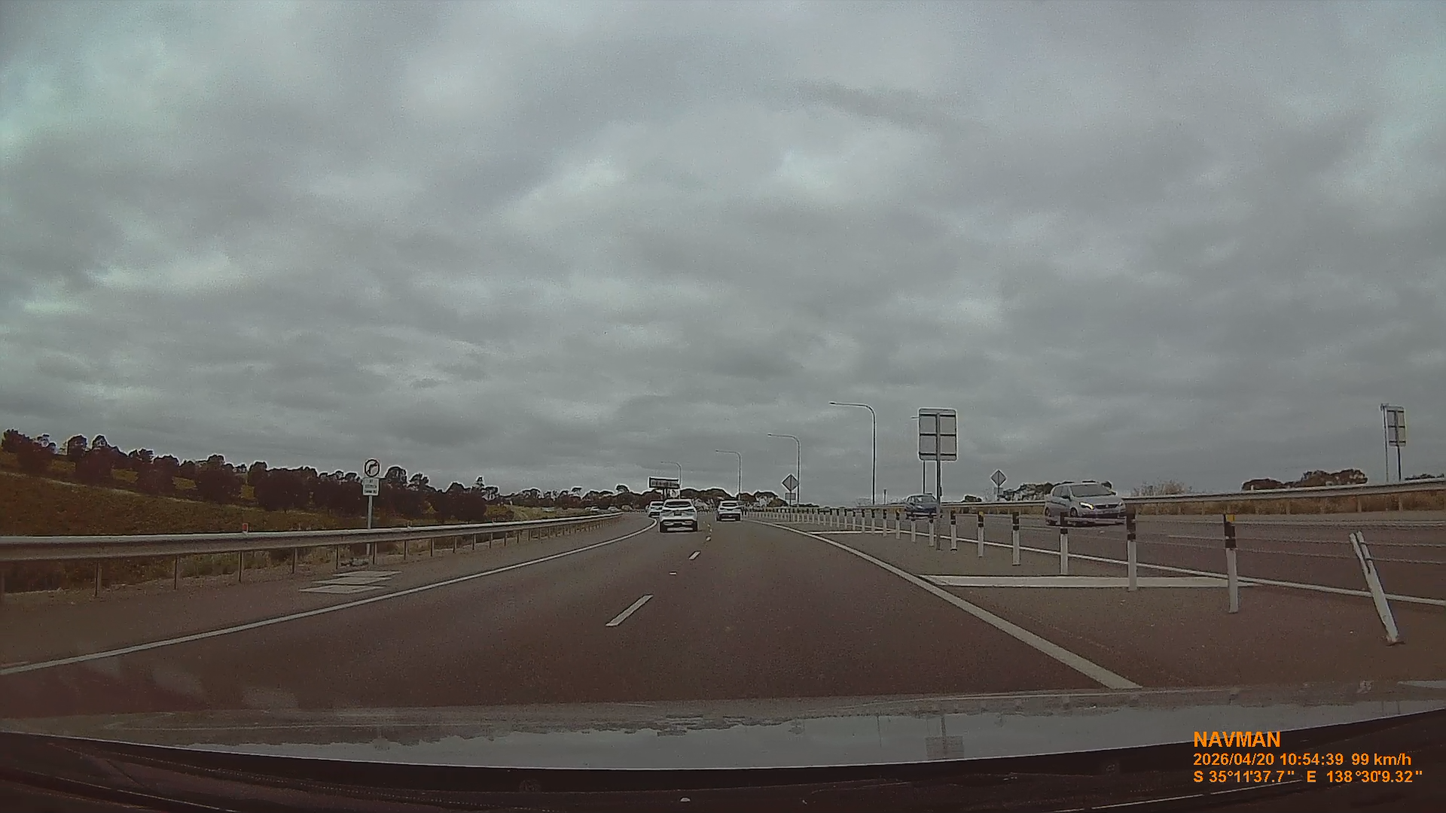road barriers: (0, 516, 599, 597), (1124, 483, 1445, 522), (1349, 532, 1401, 644), (1223, 513, 1240, 613), (1125, 508, 1137, 591), (1058, 526, 1069, 575)
